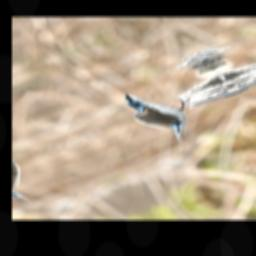Swallow: (112, 78, 219, 156)
